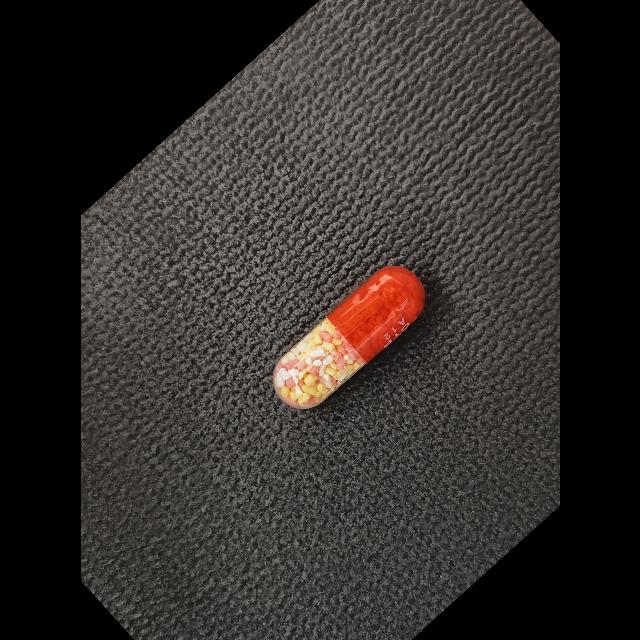Intact Capsule: (272, 266, 425, 409)
